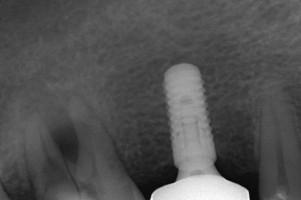Endo-Periodontal Lesion: (48, 120, 79, 164)
